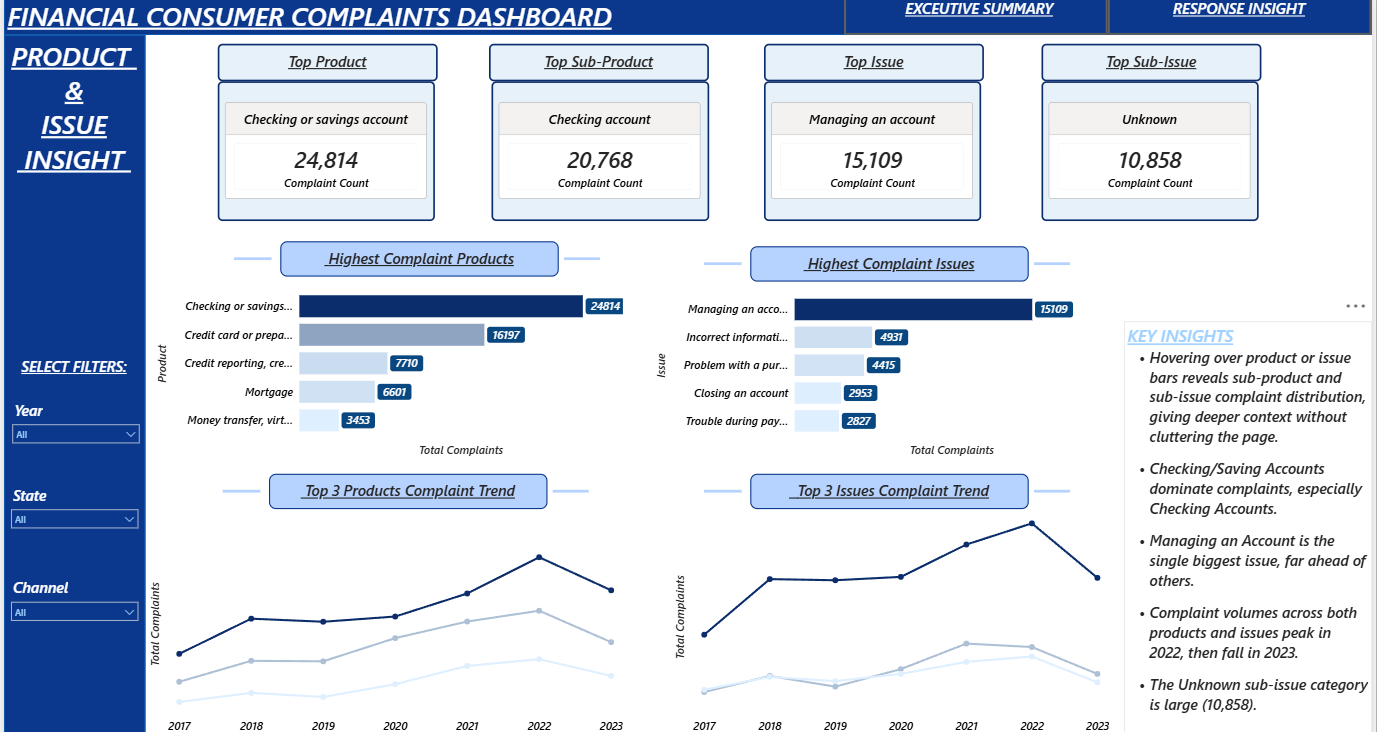

What the dashboard file says about the page in this screenshot:
{"tool":"powerbi","page":{"name":"Product and Issue Insight","canvas":[1980,1080],"ordinal":1},"visuals":[{"type":"shape","box":[0,0,1979.8,57.9],"z":0},{"type":"actionButton","box":[1216.1,0,381.8,57.9],"z":0,"group":"g14"},{"type":"actionButton","box":[1597.9,0,381.8,57.9],"z":0,"group":"g15"},{"type":"group","id":"g1","title":"Group 2","box":[309.5,70.6,318.5,256.6],"z":0,"group":"g8"},{"type":"group","id":"g2","title":"Group 1","box":[705.7,124.8,314.9,202.7],"z":0,"group":"g7"},{"type":"group","id":"g3","title":"Group 1","box":[309.5,125.2,314,202],"z":0,"group":"g1"},{"type":"group","id":"g4","title":"Group 1","box":[1100.3,125.2,314,202],"z":0,"group":"g6"},{"type":"group","id":"g5","title":"Group 1","box":[1502.1,125.2,314,202],"z":0,"group":"g9"},{"type":"textbox","box":[399.2,356.5,402.9,51],"z":0,"group":"g11"},{"type":"textbox","box":[1079.6,363.7,402.9,51],"z":0,"group":"g10"},{"type":"textbox","box":[382.9,693.1,402.9,51],"z":0,"group":"g12"},{"type":"textbox","box":[1079.6,693.1,402.9,51],"z":0,"group":"g13"},{"type":"textbox","box":[0,0,919.3,70.6],"z":1000},{"type":"textbox","box":[1265,0,293.2,57.9],"z":1000,"group":"g14"},{"type":"textbox","box":[1648.7,0,278.7,57.9],"z":1000,"group":"g15"},{"type":"textbox","box":[309.5,70.6,318.5,54.6],"z":1000,"group":"g1"},{"type":"textbox","box":[702.2,70.6,318.5,54.6],"z":1000,"group":"g7"},{"type":"group","id":"g6","title":"Group 2","box":[1100.3,70.6,318.5,256.6],"z":1000,"group":"g8"},{"type":"textbox","box":[1100.3,70.6,318.5,54.6],"z":1000,"group":"g6"},{"type":"textbox","box":[1502.1,70.6,318.5,54.6],"z":1000,"group":"g9"},{"type":"shape","box":[333,361.3,54.4,39.7],"z":1000,"group":"g11"},{"type":"shape","box":[1013.4,368.5,54.4,39.7],"z":1000,"group":"g10"},{"type":"shape","box":[316.7,697.9,54.4,39.7],"z":1000,"group":"g12"},{"type":"shape","box":[1013.4,697.9,54.4,39.7],"z":1000,"group":"g13"},{"type":"shape","box":[0,57.9,204.5,1022.5],"z":2000},{"type":"group","id":"g7","title":"Group 2","box":[702.2,70.6,318.5,256.9],"z":2000,"group":"g8"},{"type":"shape","box":[811.2,361.7,52.1,39.7],"z":2000,"group":"g11"},{"type":"shape","box":[1491.6,368.9,52.1,39.7],"z":2000,"group":"g10"},{"type":"shape","box":[794.9,698.3,52.1,39.7],"z":2000,"group":"g12"},{"type":"shape","box":[1491.6,698.3,52.1,39.7],"z":2000,"group":"g13"},{"type":"group","id":"g8","title":"Group 3","box":[309.5,70.6,1511.1,257],"z":3000},{"type":"group","id":"g9","title":"Group 2","box":[1502.1,70.6,318.5,256.6],"z":3000,"group":"g8"},{"type":"group","id":"g10","title":"Group 1","box":[1013.4,363.7,530.2,50.7],"z":4000},{"type":"clusteredBarChart","fields":{"Category":["dim_product.Product"],"Y":["CountNonNull(fact_complaint.Complaint ID)"]},"box":[217.2,405.4,684.1,267.8],"z":5000},{"type":"clusteredBarChart","fields":{"Y":["CountNonNull(fact_complaint.Complaint ID)"],"Category":["dim_issue.Issue"]},"box":[939.2,410.8,666,262.4],"z":6000},{"type":"group","id":"g11","title":"Group 1","box":[333,356.5,530.2,50.7],"z":7000},{"type":"lineChart","fields":{"Category":["dim_date.Year"],"Y":["CountNonNull(fact_complaint.Complaint ID)"],"Series":["dim_product.Product"]},"box":[206.3,763.7,694.9,316.7],"z":8000},{"type":"group","id":"g12","title":"Group 1","box":[316.7,693.1,530.2,50.7],"z":9000},{"type":"cardVisual","fields":{"Data":["CountNonNull(fact_complaint.Complaint ID)"],"Rows":["dim_product.Sub-product"]},"box":[705.7,124.8,314.9,202.7],"z":9001,"group":"g2"},{"type":"cardVisual","fields":{"Data":["CountNonNull(fact_complaint.Complaint ID)"],"Rows":["dim_product.Product"]},"box":[309.5,125.2,314,202],"z":9001,"group":"g3"},{"type":"cardVisual","fields":{"Data":["CountNonNull(fact_complaint.Complaint ID)"],"Rows":["dim_issue.Issue"]},"box":[1100.3,125.2,314,202],"z":9001,"group":"g4"},{"type":"cardVisual","fields":{"Data":["CountNonNull(fact_complaint.Complaint ID)"],"Rows":["dim_issue.Sub-issue"]},"box":[1502.1,125.2,314,202],"z":9001,"group":"g5"},{"type":"lineChart","fields":{"Category":["dim_date.Year"],"Y":["CountNonNull(fact_complaint.Complaint ID)"],"Series":["dim_issue.Issue"]},"box":[966.4,743.8,638.8,336.6],"z":10000},{"type":"group","id":"g13","title":"Group 1","box":[1013.4,693.1,530.2,50.7],"z":11000},{"type":"slicer","fields":{"Values":["dim_date.Year"]},"box":[1.8,581.6,204.5,70.6],"z":12000},{"type":"slicer","fields":{"Values":["dim_location.State"]},"box":[0,704.7,204.5,70.6],"z":13000},{"type":"slicer","fields":{"Values":["dim_channel.Submitted via"]},"box":[0,838.6,204.5,70.6],"z":14000},{"type":"textbox","box":[0,517.2,202.7,45.2],"z":15000},{"type":"textbox","box":[0,57.9,202.7,229.8],"z":16000},{"type":"group","id":"g14","title":"Group 4","box":[1216.1,0,381.8,57.9],"z":17000},{"type":"group","id":"g15","title":"Group 5","box":[1597.9,0,381.8,57.9],"z":18000},{"type":"textbox","box":[1621.5,472.3,358.3,608],"z":19000}]}

Visuals, with their boxes in screenshot pixels (x1, y1, x2, y2), scaled from the page's 1980x1080 canvas onto the 1381x732 screenshot:
shape: (0,0,1380,39)
actionButton: (848,0,1114,39)
actionButton: (1114,0,1380,39)
"Group 2" group: (216,48,438,222)
"Group 1" group: (492,85,712,222)
"Group 1" group: (216,85,435,222)
"Group 1" group: (767,85,986,222)
"Group 1" group: (1048,85,1267,222)
textbox: (278,242,559,276)
textbox: (753,247,1034,281)
textbox: (267,470,548,504)
textbox: (753,470,1034,504)
textbox: (0,0,641,48)
textbox: (882,0,1087,39)
textbox: (1150,0,1344,39)
textbox: (216,48,438,85)
textbox: (490,48,712,85)
"Group 2" group: (767,48,990,222)
textbox: (767,48,990,85)
textbox: (1048,48,1270,85)
shape: (232,245,270,272)
shape: (707,250,745,277)
shape: (221,473,259,500)
shape: (707,473,745,500)
shape: (0,39,143,731)
"Group 2" group: (490,48,712,222)
shape: (566,245,602,272)
shape: (1040,250,1077,277)
shape: (554,473,591,500)
shape: (1040,473,1077,500)
"Group 3" group: (216,48,1270,222)
"Group 2" group: (1048,48,1270,222)
"Group 1" group: (707,247,1077,281)
clusteredBarChart - dim_product.Product x CountNonNull(fact_complaint.Complaint ID): (151,275,629,456)
clusteredBarChart - CountNonNull(fact_complaint.Complaint ID) x dim_issue.Issue: (655,278,1120,456)
"Group 1" group: (232,242,602,276)
lineChart - dim_date.Year x CountNonNull(fact_complaint.Complaint ID): (144,518,629,731)
"Group 1" group: (221,470,591,504)
cardVisual - CountNonNull(fact_complaint.Complaint ID) x dim_product.Sub-product: (492,85,712,222)
cardVisual - CountNonNull(fact_complaint.Complaint ID) x dim_product.Product: (216,85,435,222)
cardVisual - CountNonNull(fact_complaint.Complaint ID) x dim_issue.Issue: (767,85,986,222)
cardVisual - CountNonNull(fact_complaint.Complaint ID) x dim_issue.Sub-issue: (1048,85,1267,222)
lineChart - dim_date.Year x CountNonNull(fact_complaint.Complaint ID): (674,504,1120,731)
"Group 1" group: (707,470,1077,504)
slicer - dim_date.Year: (1,394,144,442)
slicer - dim_location.State: (0,478,143,525)
slicer - dim_channel.Submitted via: (0,568,143,616)
textbox: (0,351,141,381)
textbox: (0,39,141,195)
"Group 4" group: (848,0,1114,39)
"Group 5" group: (1114,0,1380,39)
textbox: (1131,320,1380,731)
